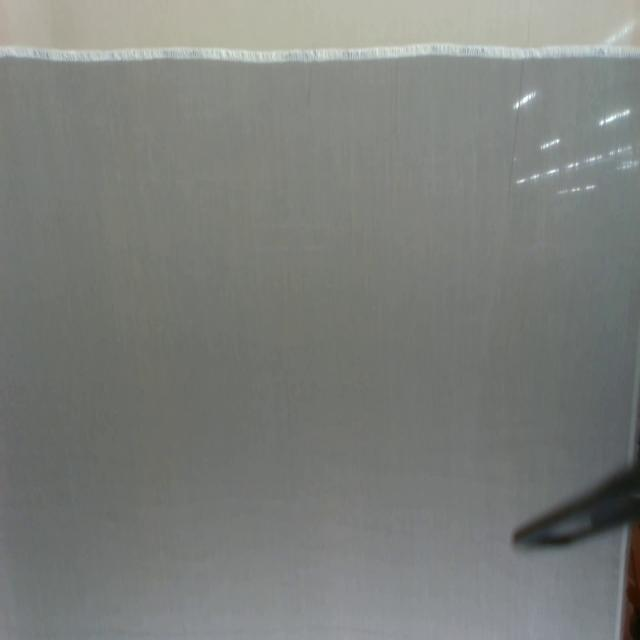crease: (502, 56, 527, 211)
